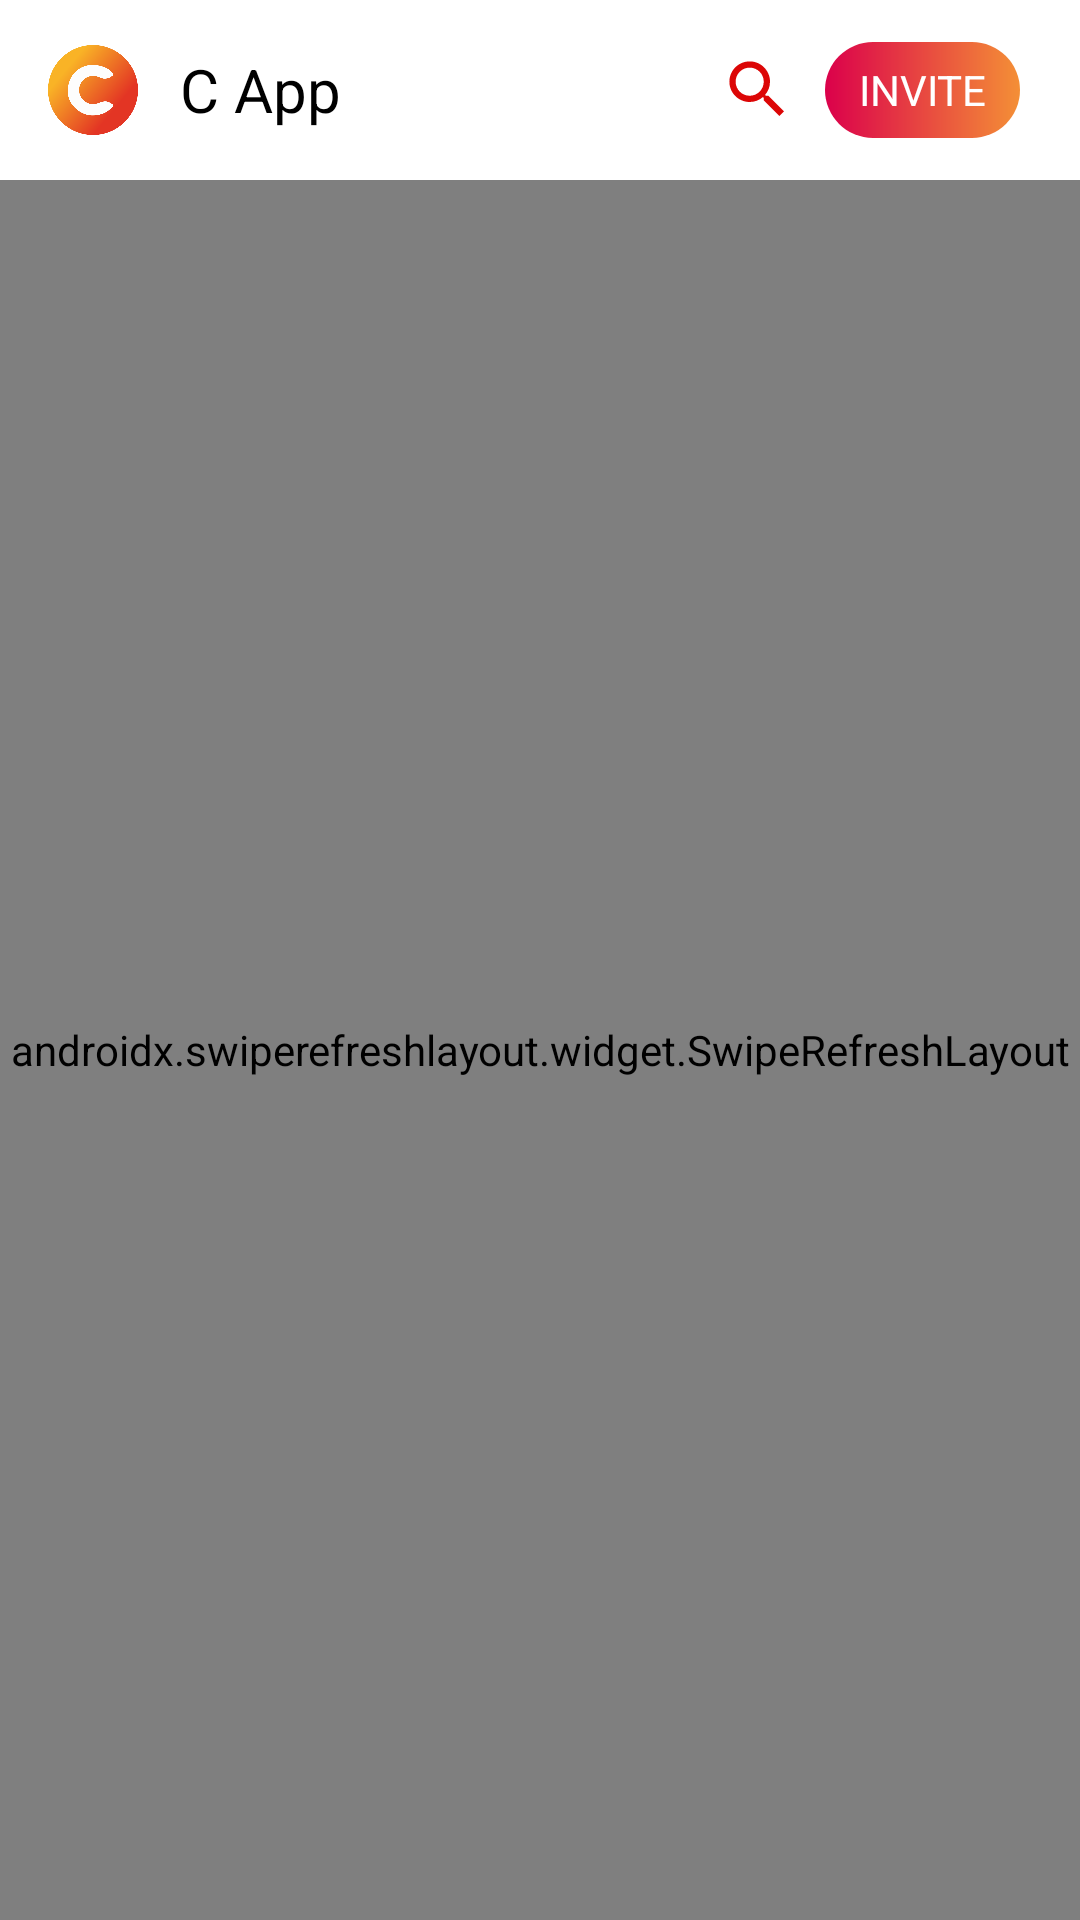

Locate icon controls on the screen. Image size 1080 × 1920, boxes as (x1=x1, y1=y1, x2=x2, y2=y2).
search: (x1=729, y1=61, x2=784, y2=116)
